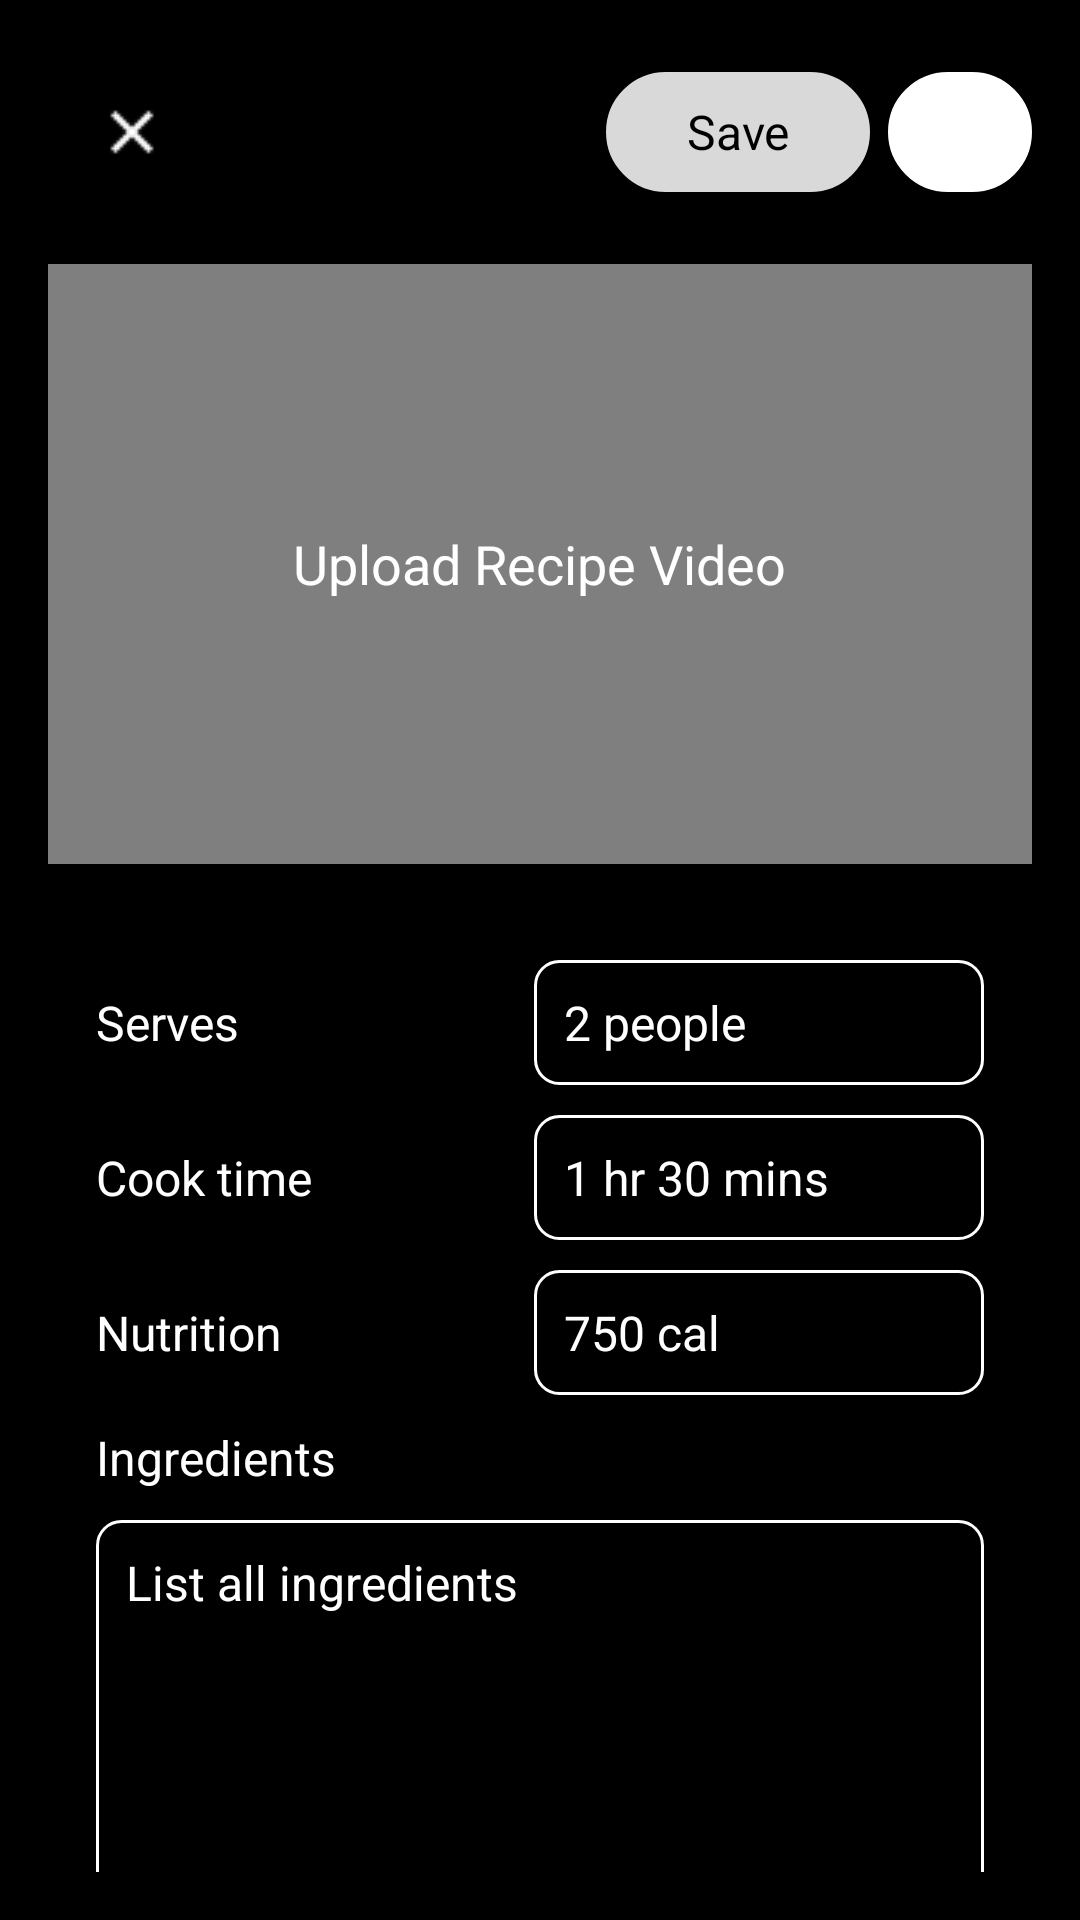

Named icons in this screenshot (1080w x 1920h) and their bounding boxes, (x1, y1, x2, y2):
Cancel: (110, 110, 154, 154)
